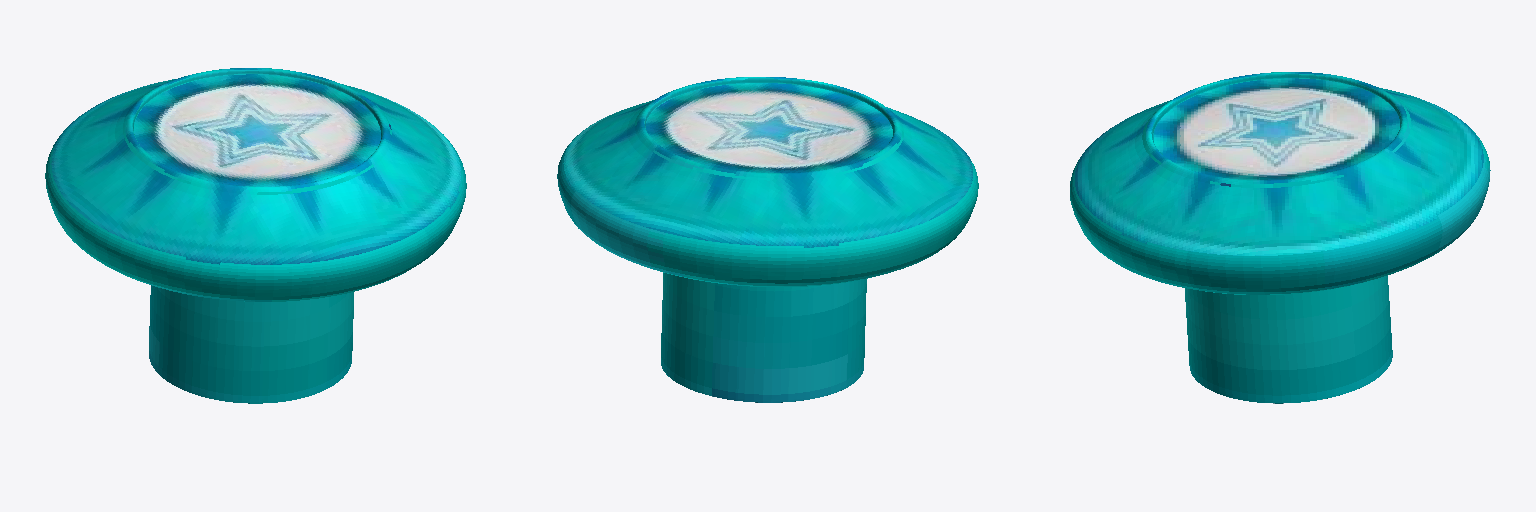
3 views of the same model, side by side, from view 1: azimuth 30°, elevation 25°; view 2: azimuth 150°, elevation 25°; view 3: azimuth 270°, elevation 25° (orthographic).
Parts seen in each view (by area): view 1: ARCHMODELS_47_050_33; view 2: ARCHMODELS_47_050_33; view 3: ARCHMODELS_47_050_33.
Boxes of the visible parts, box(x1,y1,x2,y2) form: ARCHMODELS_47_050_33: box(45, 68, 466, 403); ARCHMODELS_47_050_33: box(557, 77, 978, 402); ARCHMODELS_47_050_33: box(1070, 72, 1490, 403).
Size of the model in its own units: 1.13 by 0.8035 by 1.13.
Materials: 2 (2 with a texture image).